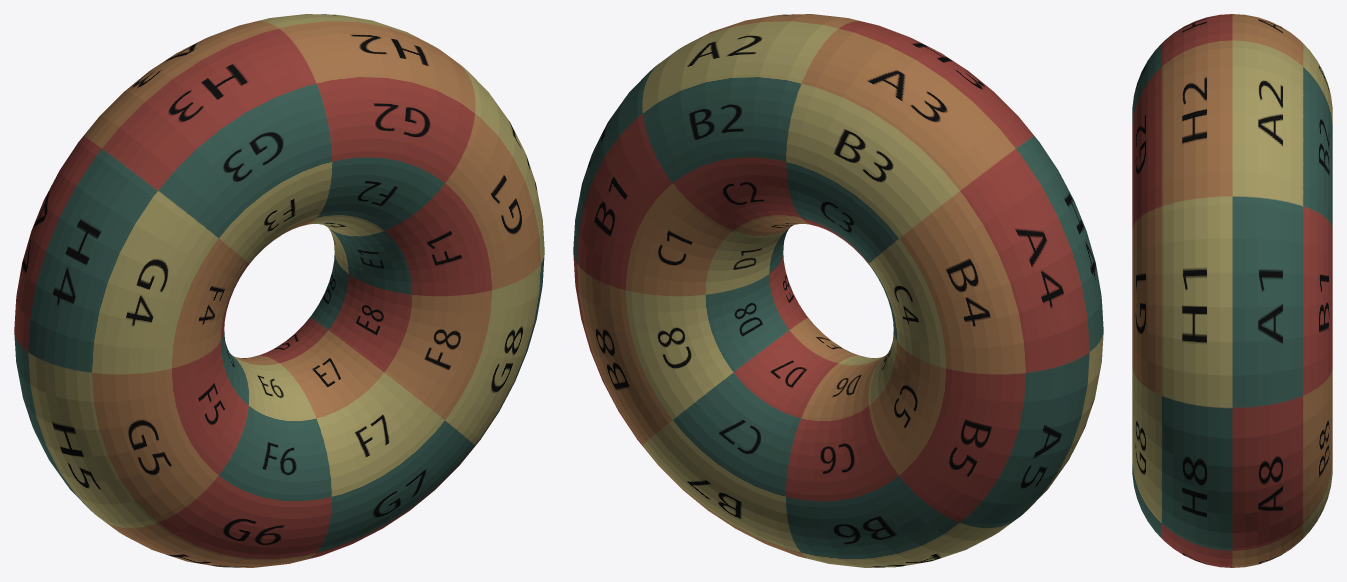
Rendered from texture_torus_R10_r28.glb.
3 views of the same model, side by side, from view 1: azimuth 30°, elevation 25°; view 2: azimuth 150°, elevation 25°; view 3: azimuth 270°, elevation 25° (orthographic). The views are drawn at different scales.
Visible parts, largest first — view 1: world; view 2: world; view 3: world.
Part boxes in pixels (box(x1,y1,x2,y2)): world: box(14, 14, 544, 567); world: box(573, 14, 1103, 567); world: box(1132, 14, 1332, 567).
Size of the model in its own units: 26.13 by 26.08 by 9.45.
1 material, 1 textured.
